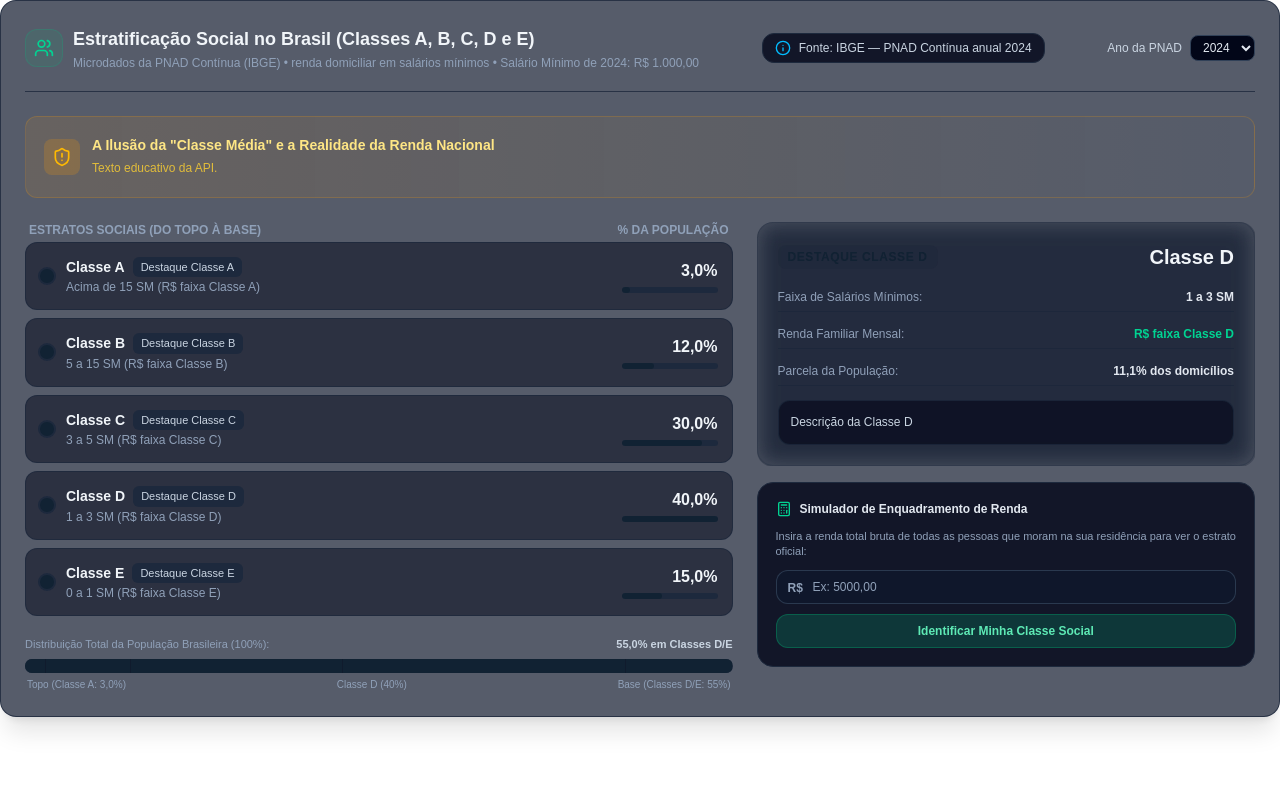
Test: SocialClassesExplainer › com microdados da PNAD mostra origem, domicílios e permite trocar o ano
Expected: the text "Microdados da PNAD Contínua (IBGE)" is shown, [73,56,489,70]
Expected: the text "Fonte: IBGE — PNAD Contínua anual 2024" is shown, [799,40,1032,56]
Select "2023" in the dropdown labelled "Ano da PNAD" at (1222, 48), box [1190,35,1255,61]
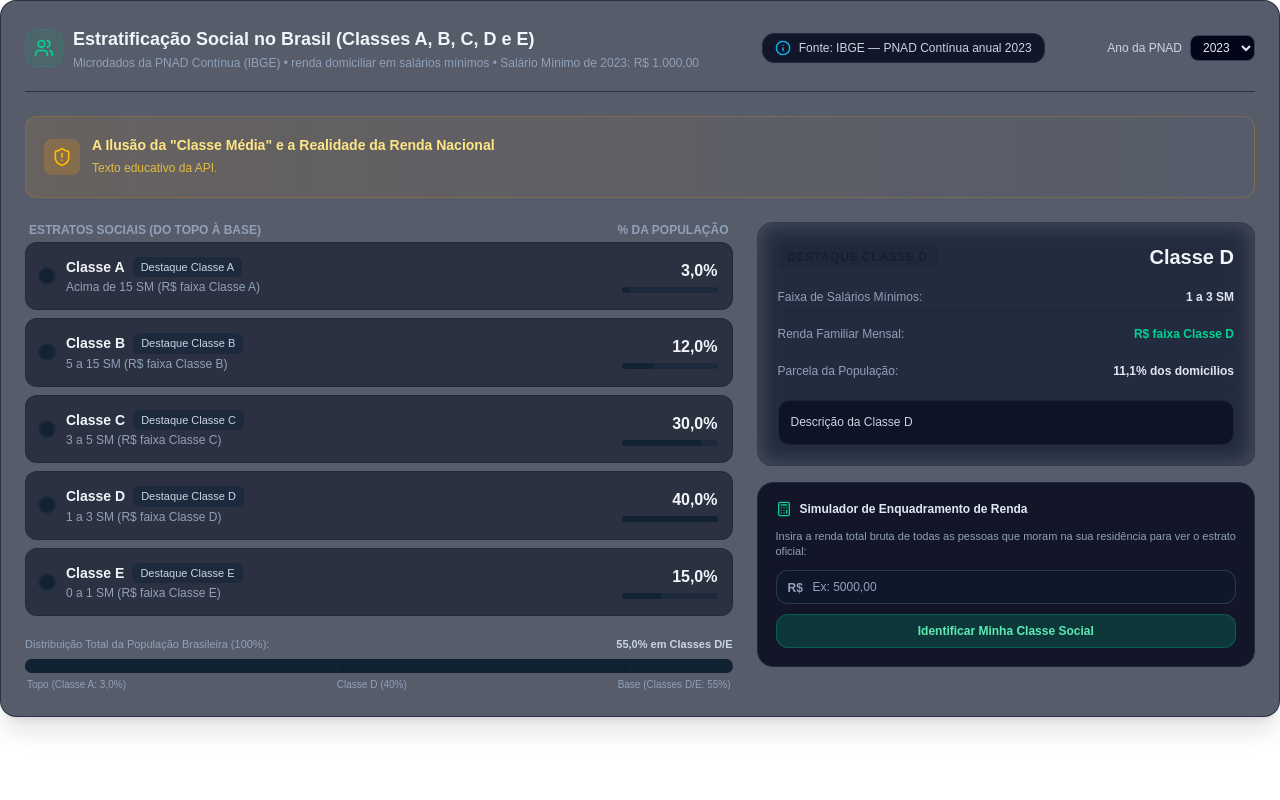
Expected: the text "Fonte: IBGE — PNAD Contínua anual 2023" is shown, [799,40,1032,56]
